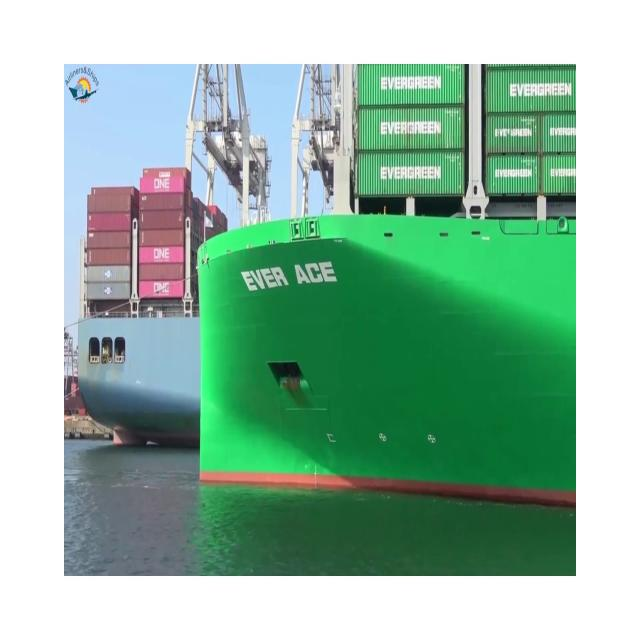OCR: (233, 247, 345, 310)
